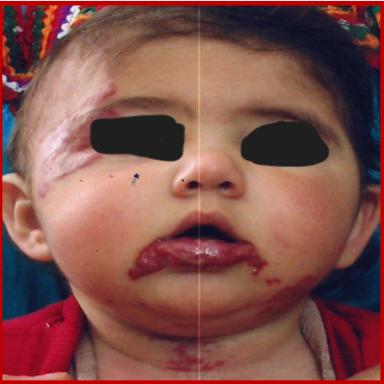Hemangiome: (129, 237, 266, 279)
